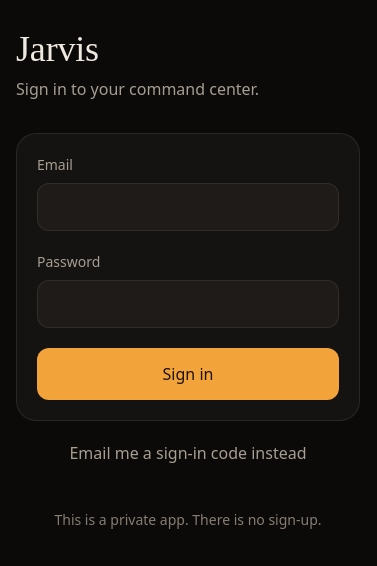
Test case: Sign in › with a password › says why it failed and keeps what was typed
Type "owner@example.com" into the field labelled "Email".
click(188, 206); type("owner@example.com")  # box x1=37 y1=182 x2=339 y2=230
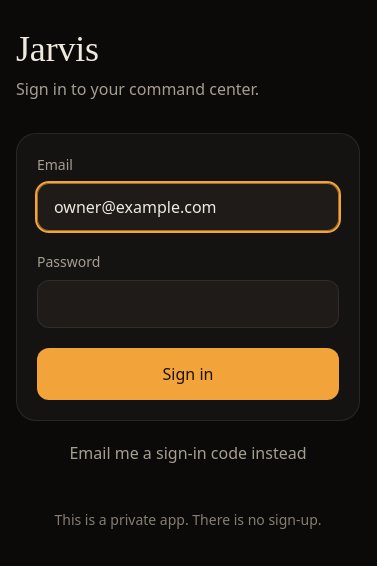
Type "wrong horse" into the password field labelled "Password".
click(188, 304); type("wrong horse")  # box x1=37 y1=280 x2=339 y2=328
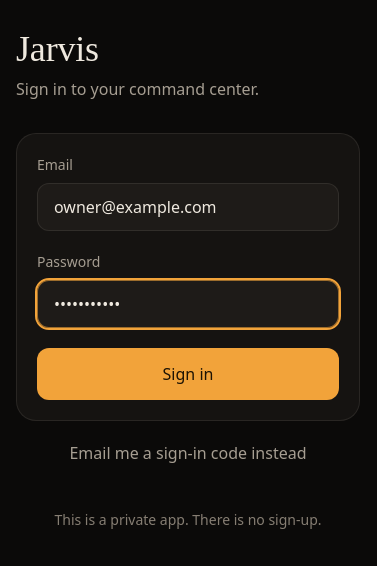
Click the button "Sign in".
click(188, 374)  # box x1=37 y1=348 x2=339 y2=400
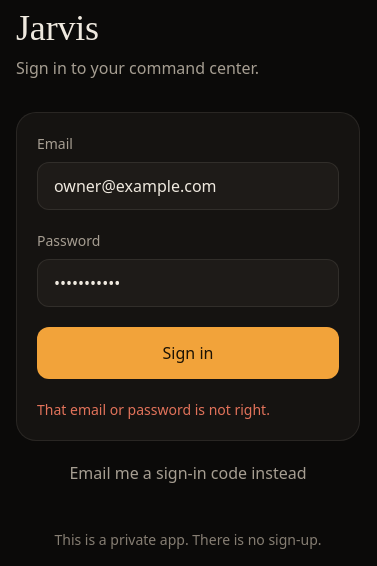
Expected: the button "Sign in" is enabled, x1=37 y1=327 x2=339 y2=379
Expected: the message reads "That email or password is not right.", x1=37 y1=400 x2=270 y2=419
